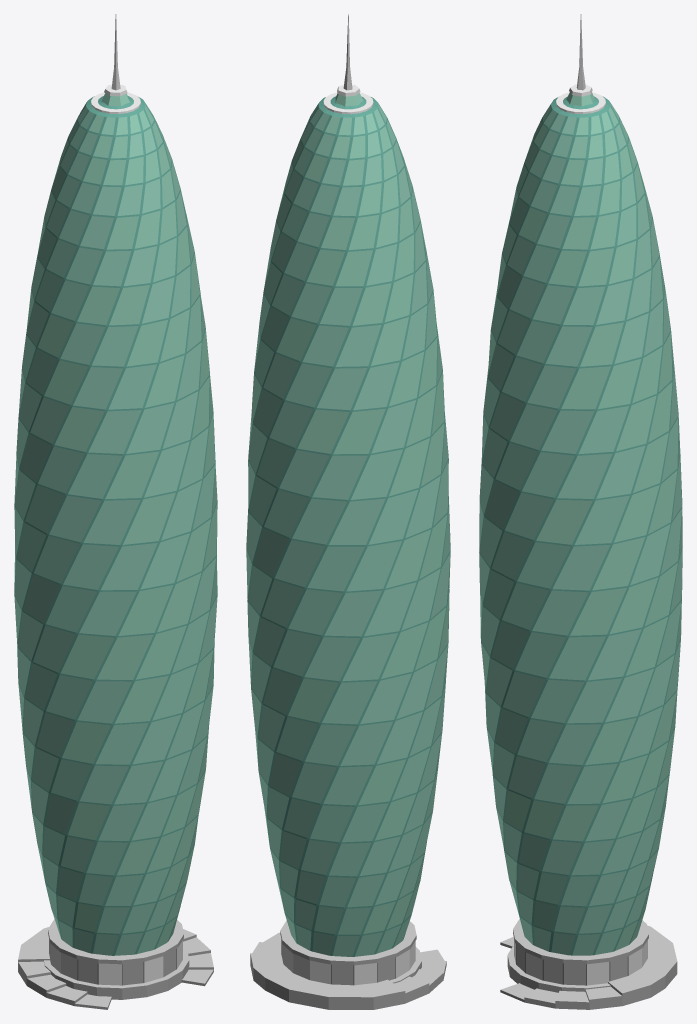
File: skyscraper_005.fbx
3 renders of one model, left to right at view 1: azimuth 30°, elevation 25°; view 2: azimuth 150°, elevation 25°; view 3: azimuth 270°, elevation 25°, orthographic.
Visible parts, largest first — view 1: skyscraper_005; view 2: skyscraper_005; view 3: skyscraper_005.
Boxes of the visible parts, box(x1,y1,x2,y2) form: skyscraper_005: box(14, 14, 217, 1009); skyscraper_005: box(246, 14, 450, 1009); skyscraper_005: box(479, 14, 682, 1009).
Bounding box in the file's own units: 1381 × 7144 × 1381.
